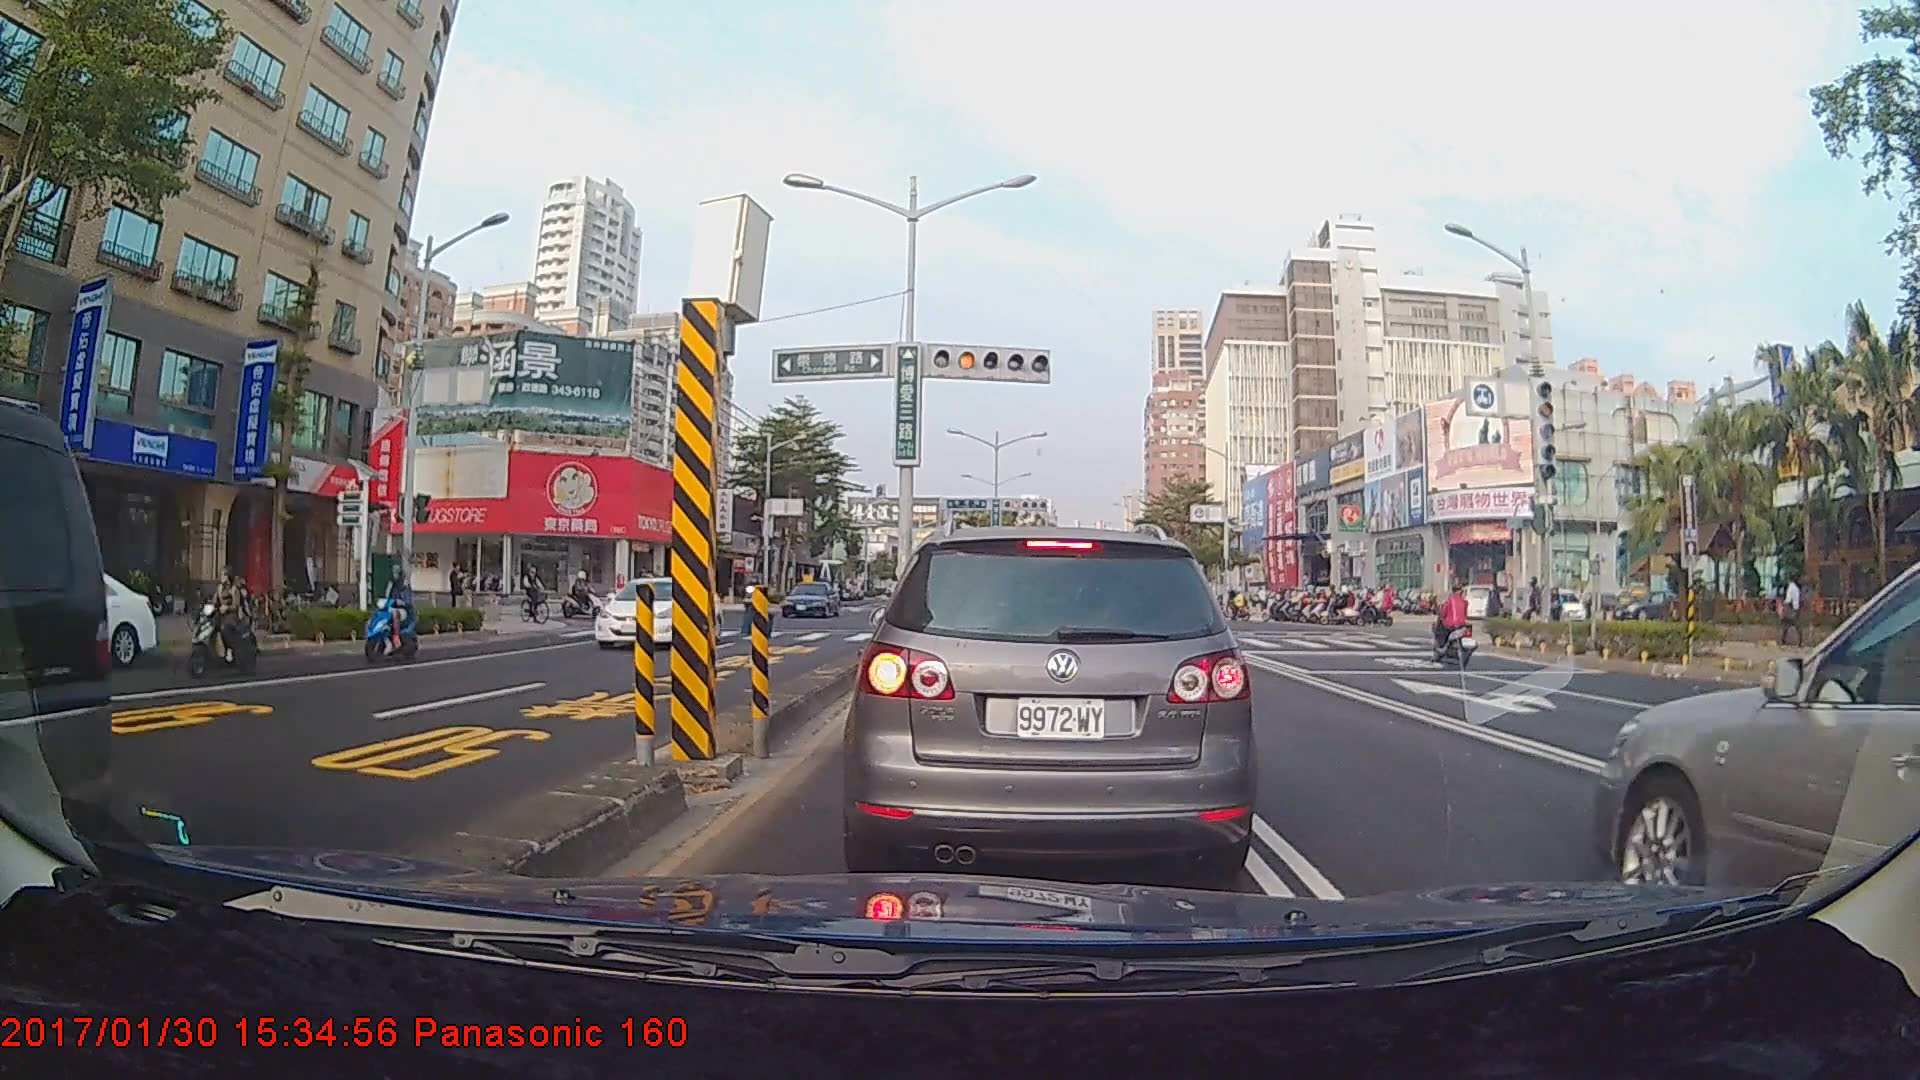pedestrian: (1778, 573, 1805, 648), (448, 558, 468, 621)
rider: (188, 563, 274, 687), (360, 553, 423, 672), (1430, 583, 1486, 672), (561, 568, 613, 625), (518, 559, 553, 629)
vehicle: (1600, 529, 1920, 1036), (854, 525, 1245, 876), (0, 561, 174, 671), (591, 573, 722, 651), (779, 578, 838, 618)
